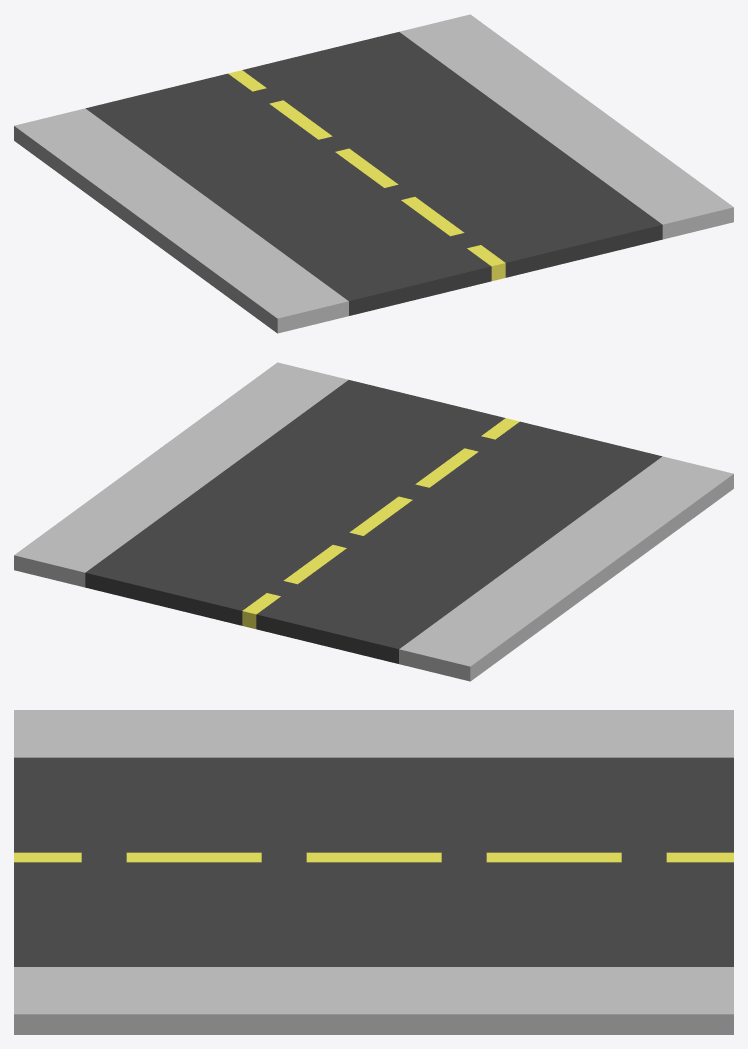
File: cars-11-VertStreet.obj
The picture shows the model from 3 angles, top to bottom: view 1: azimuth 30°, elevation 25°; view 2: azimuth 150°, elevation 25°; view 3: azimuth 270°, elevation 25°; orthographic projection. The views are drawn at different scales.
Parts seen in each view (by area): view 1: VertStreet; view 2: VertStreet; view 3: VertStreet.
Boxes of the visible parts, <box> form: VertStreet: <box>14,14,733,333</box>; VertStreet: <box>14,362,733,681</box>; VertStreet: <box>14,710,733,1034</box>.
Bounding box in the file's own units: 3.2 × 0.1 × 3.2.
Materials: 1 (1 with a texture image).
